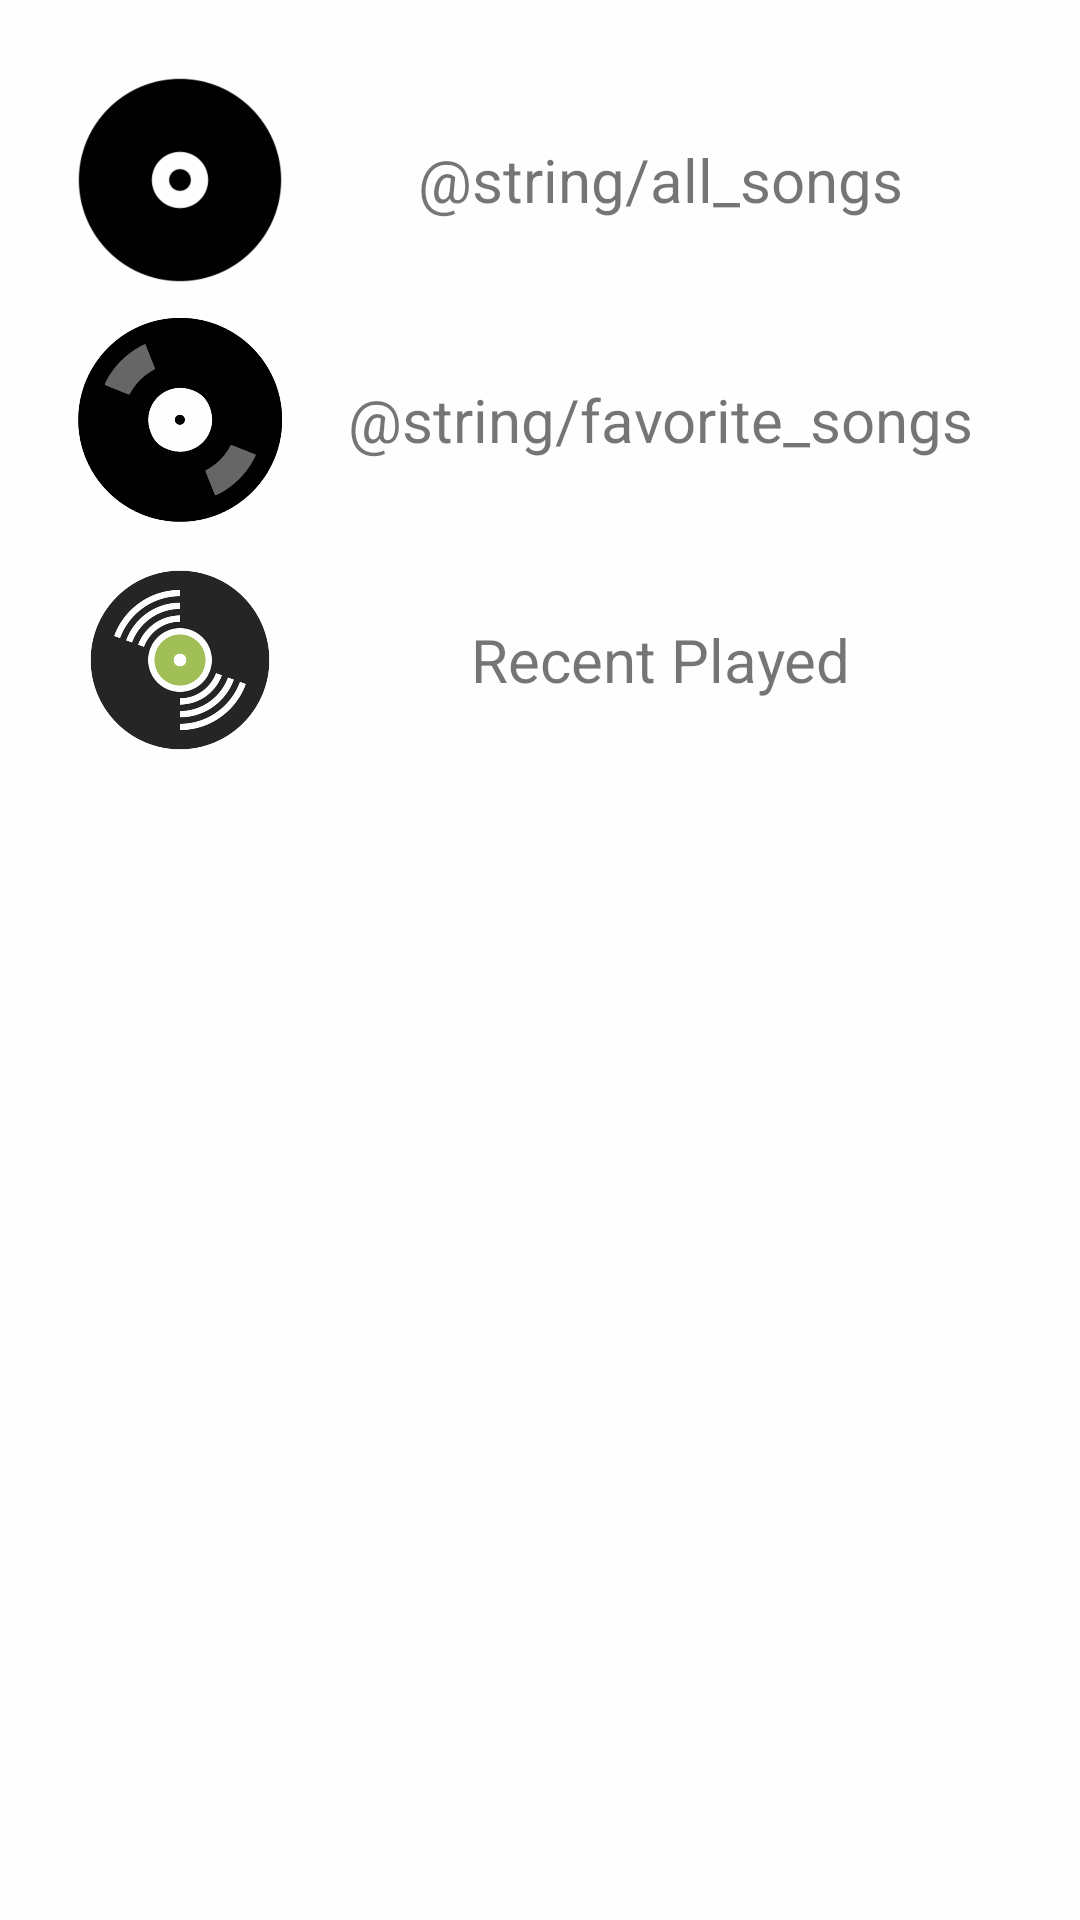

Icon bounding boxes for this 1080 × 1920 phone screenshot, format (x1, y1, x2, y2):
music: (78, 78, 282, 282), (78, 318, 282, 522), (91, 571, 269, 749)
